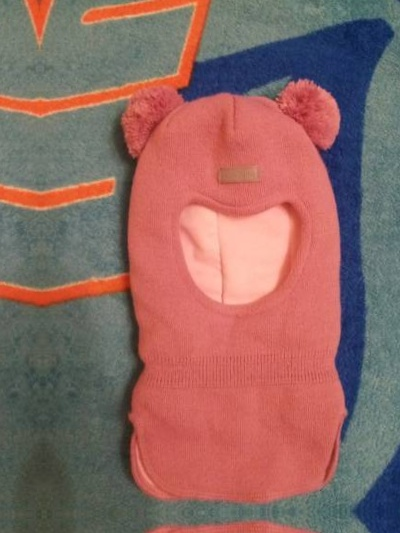Hat: (98, 66, 382, 504), (102, 522, 387, 533)
